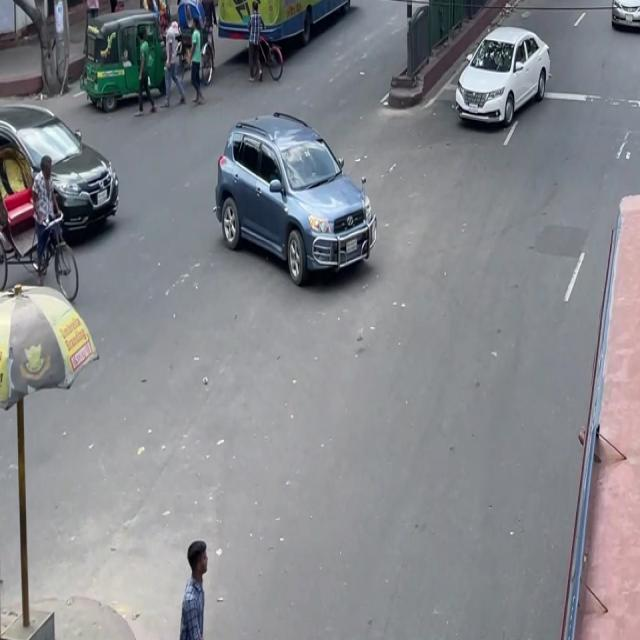bicycle: (247, 23, 288, 91)
bus: (215, 0, 382, 35)
car: (208, 101, 381, 294), (450, 12, 555, 139), (605, 0, 639, 42)
rickshaw: (81, 0, 175, 126)
